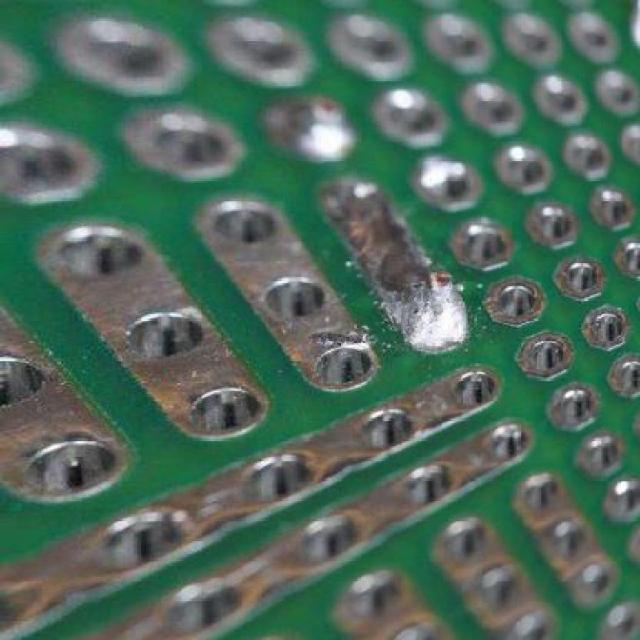Soldering shorted: (381, 231, 476, 355)
